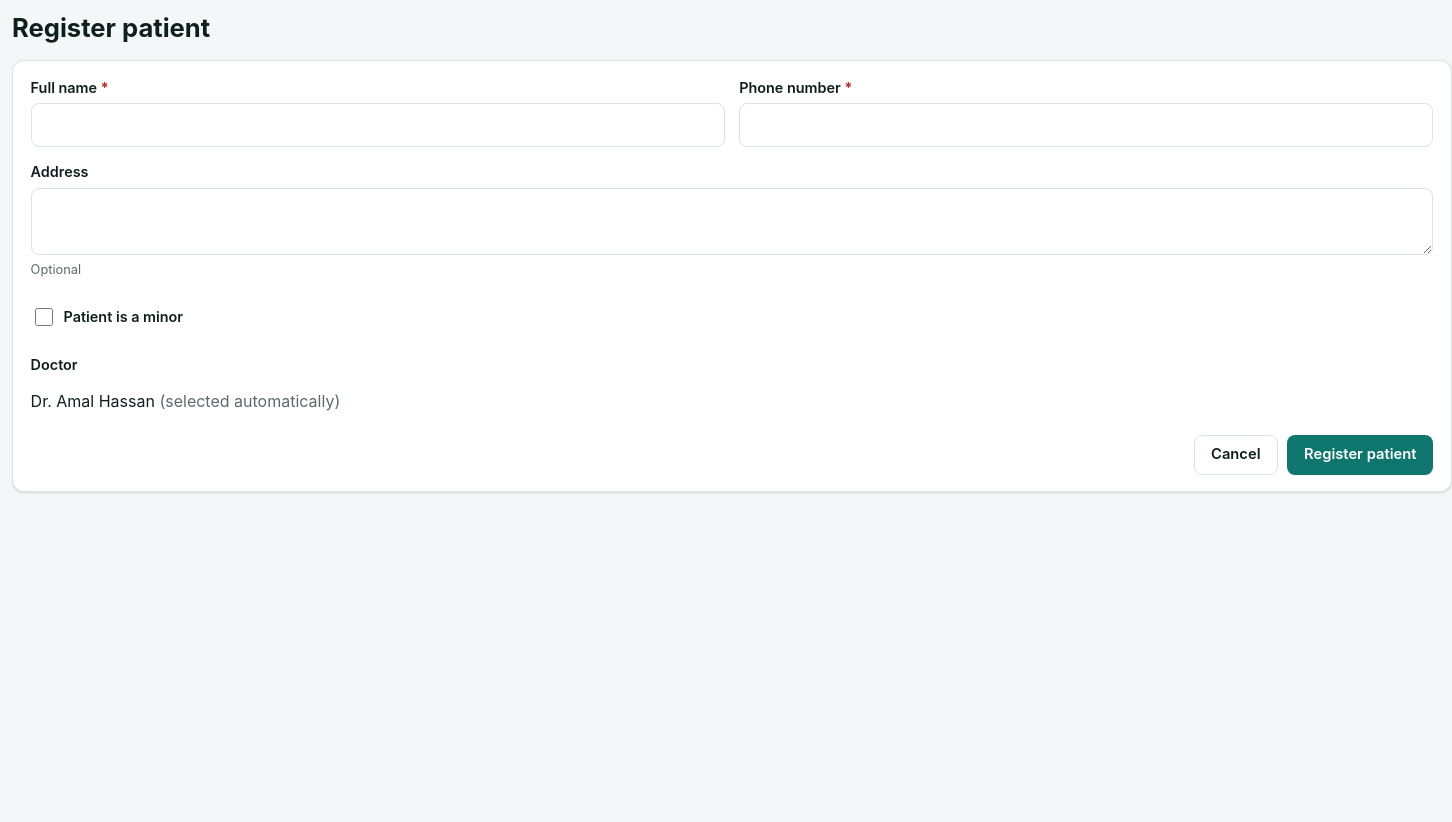
Test: patient registration (PATIENT-001..003) › shows field errors returned by the API
Type "Mona" into the field labelled "Full name *". click: (378, 125)
box: [31,103,725,147]
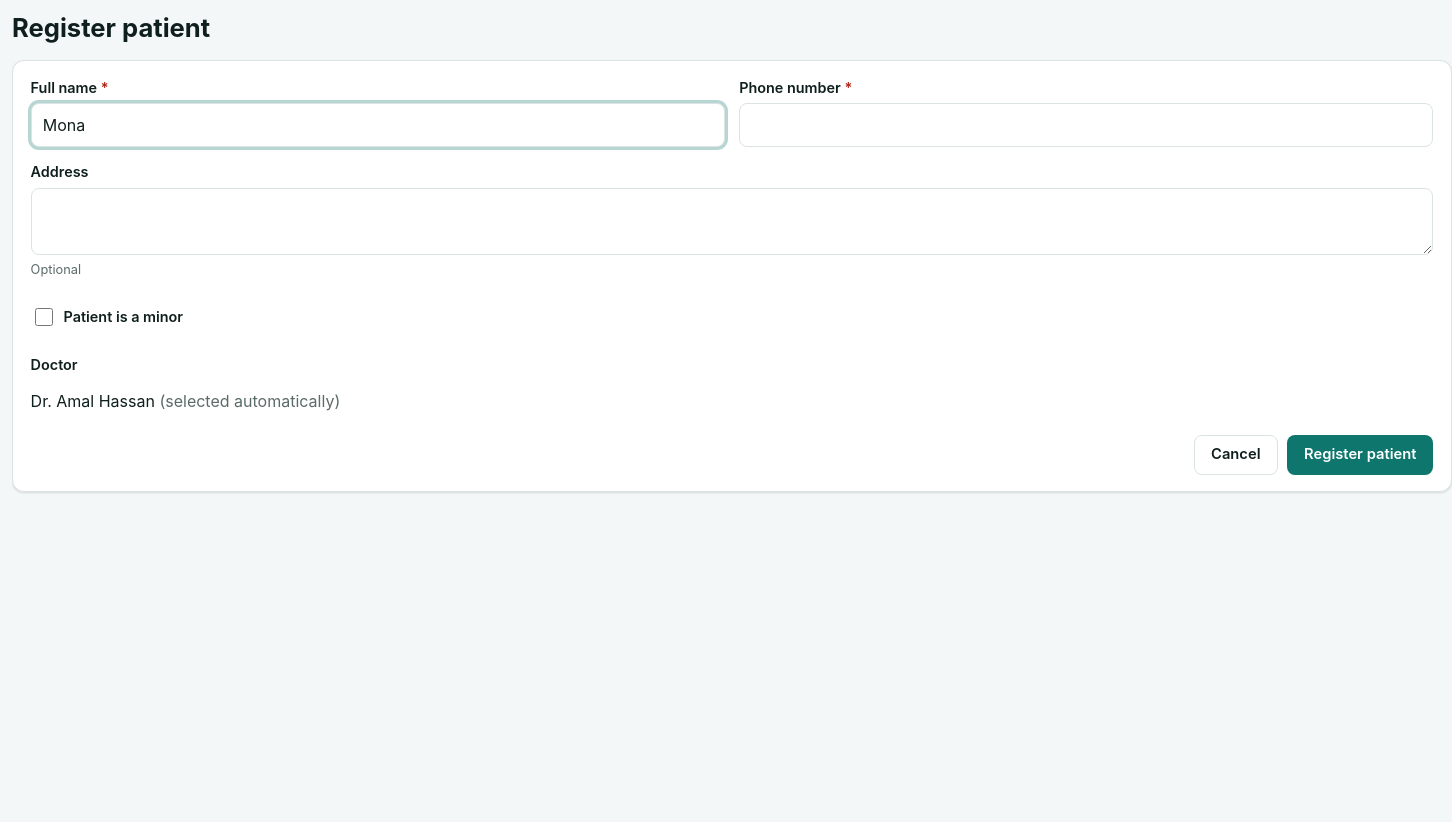
Type "12ab" into the field labelled "Phone number *". click: (1086, 125)
box: [739,103,1433,147]
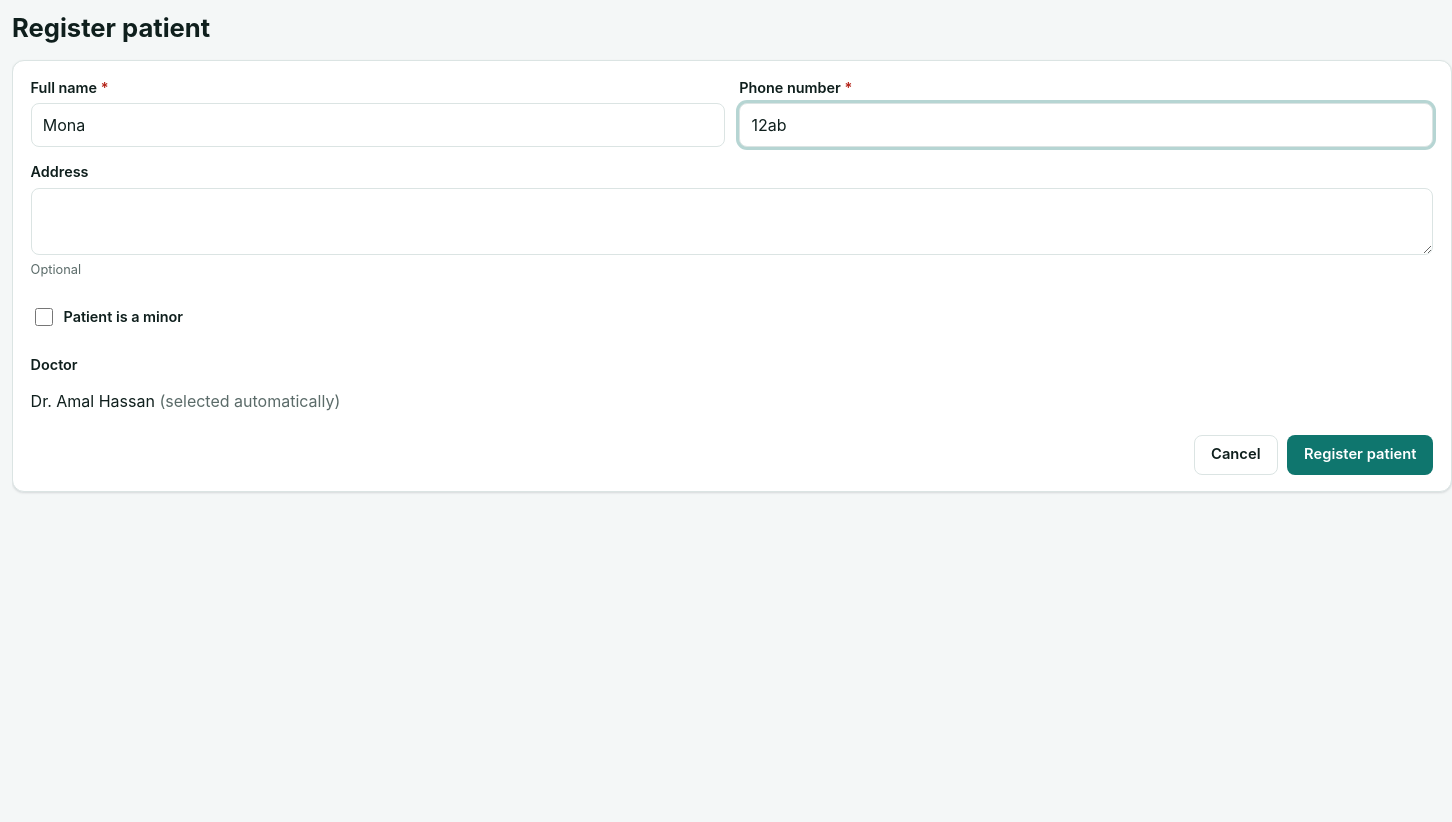
Click the button "Register patient". click: (1360, 455)
box: [1287,435,1433,475]
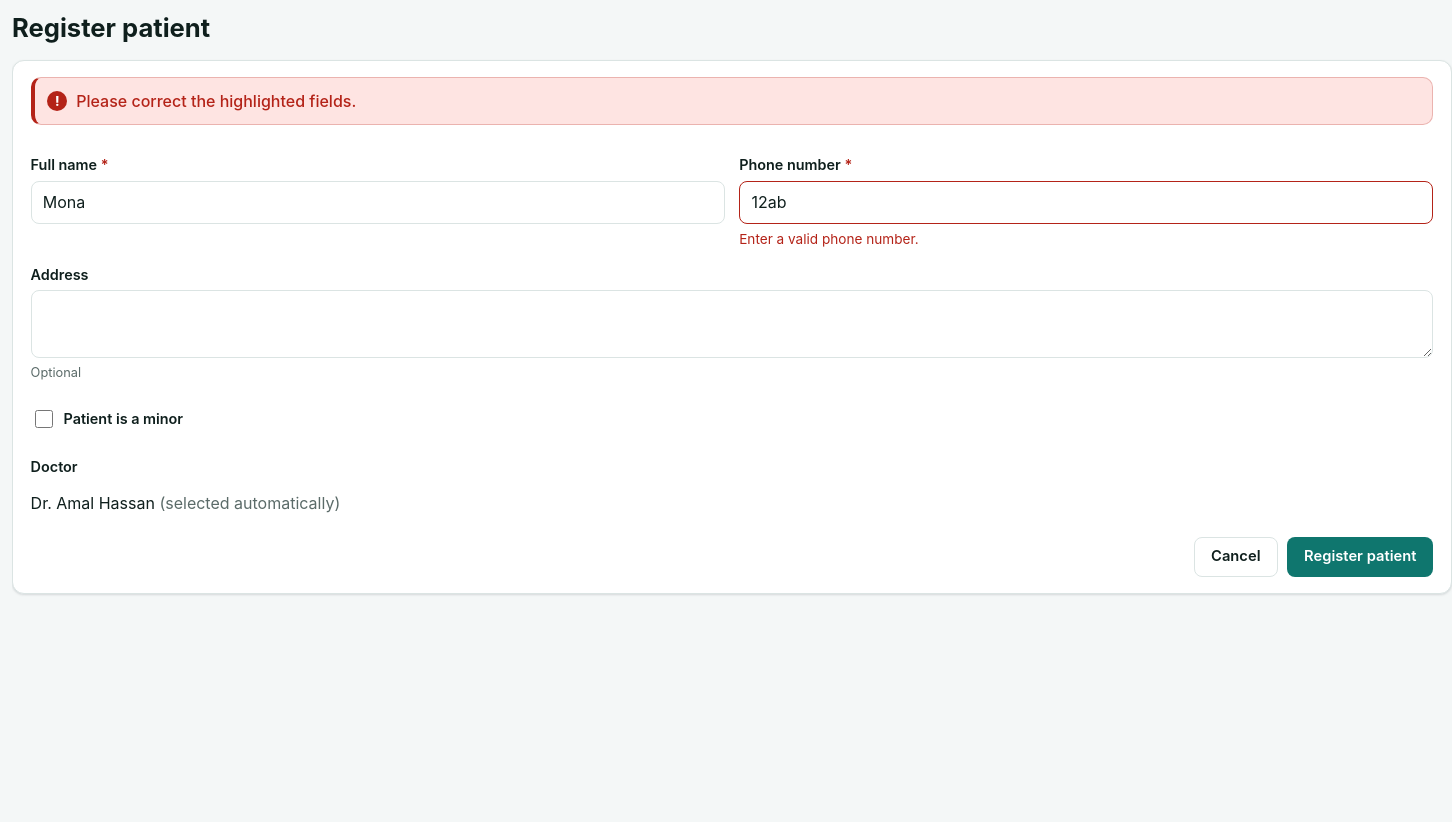
Now the text "Enter a valid phone number." is shown, box [739,231,919,247]
